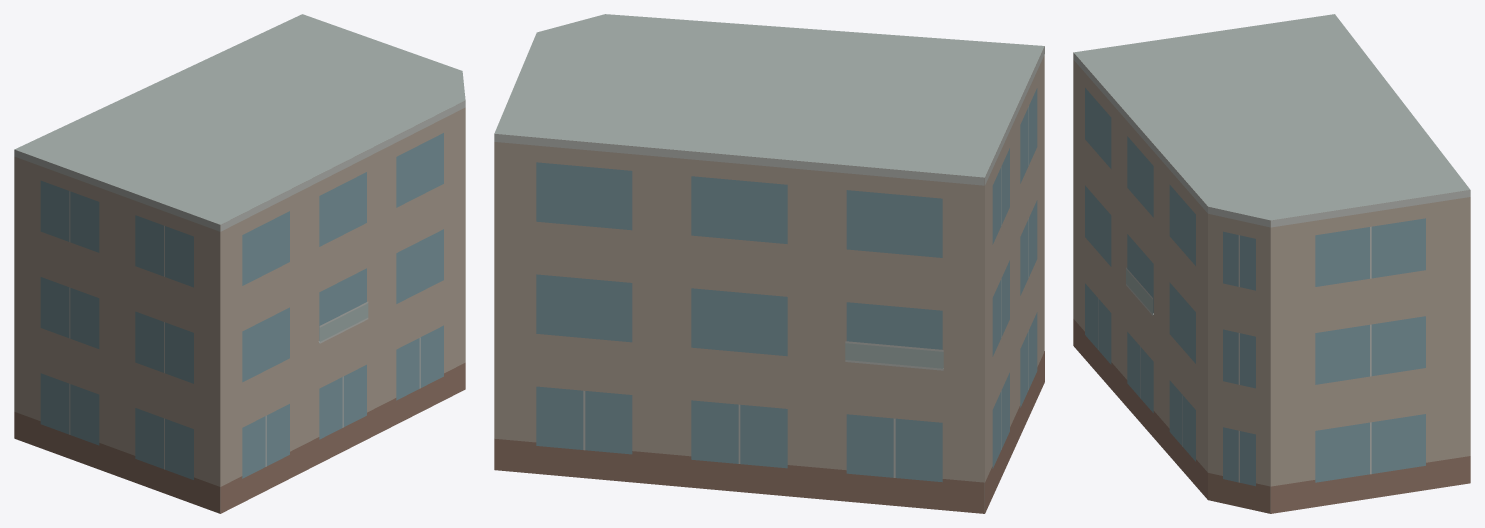
Rendered from survey-upis-32524072.glb.
The picture shows the model from 3 angles, left to right: view 1: azimuth 30°, elevation 25°; view 2: azimuth 150°, elevation 25°; view 3: azimuth 270°, elevation 25°; orthographic projection. The views are drawn at different scales.
Parts seen in each view (by area): view 1: survey-upis-32524072.tmp; view 2: survey-upis-32524072.tmp; view 3: survey-upis-32524072.tmp.
Part boxes in pixels (x1,y1,x2,y2): survey-upis-32524072.tmp: (14,14,465,513); survey-upis-32524072.tmp: (494,14,1044,513); survey-upis-32524072.tmp: (1073,14,1470,513).
Size of the model in its own units: 15.25 by 10.1 by 12.4.
